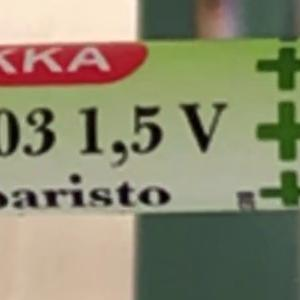1,5V: (13, 93, 237, 195)
